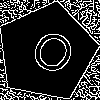O: (22, 27, 80, 86)
